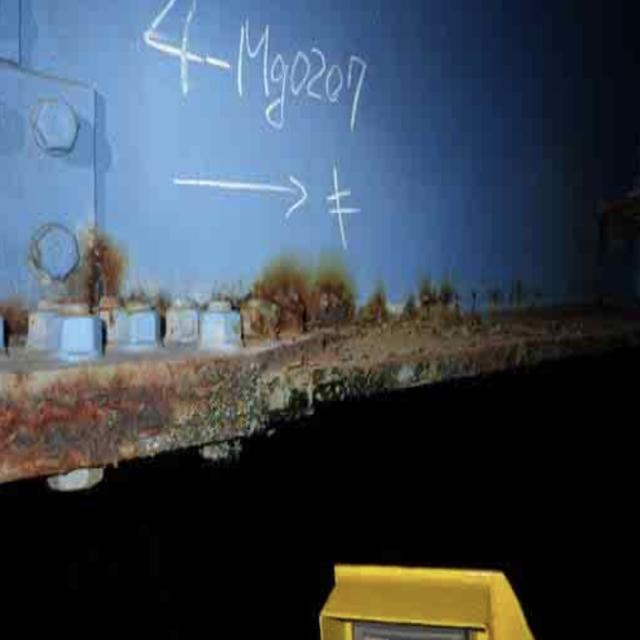corrosion: (11, 247, 183, 472), (232, 256, 497, 391)
